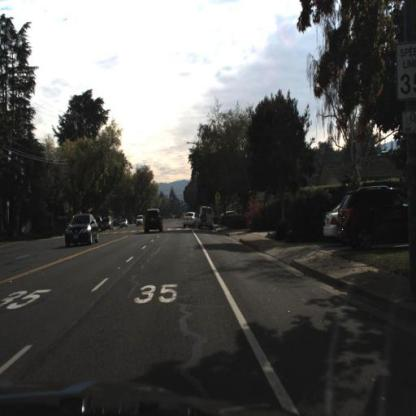car: (339, 186, 416, 255), (65, 214, 99, 247), (142, 207, 165, 238), (323, 209, 340, 241), (198, 204, 216, 229), (101, 215, 115, 234), (183, 212, 199, 228), (136, 215, 146, 229)
